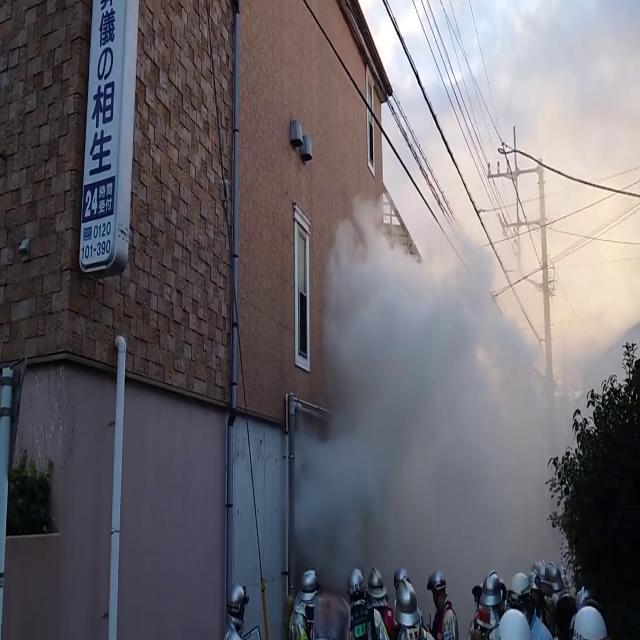Smoke: (295, 78, 592, 582)
